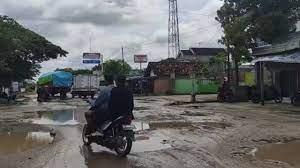Pothole: (14, 98, 102, 131), (0, 121, 57, 165), (231, 132, 300, 168), (130, 129, 182, 158), (144, 117, 227, 132), (168, 94, 225, 108), (176, 105, 213, 118), (132, 92, 162, 108)
